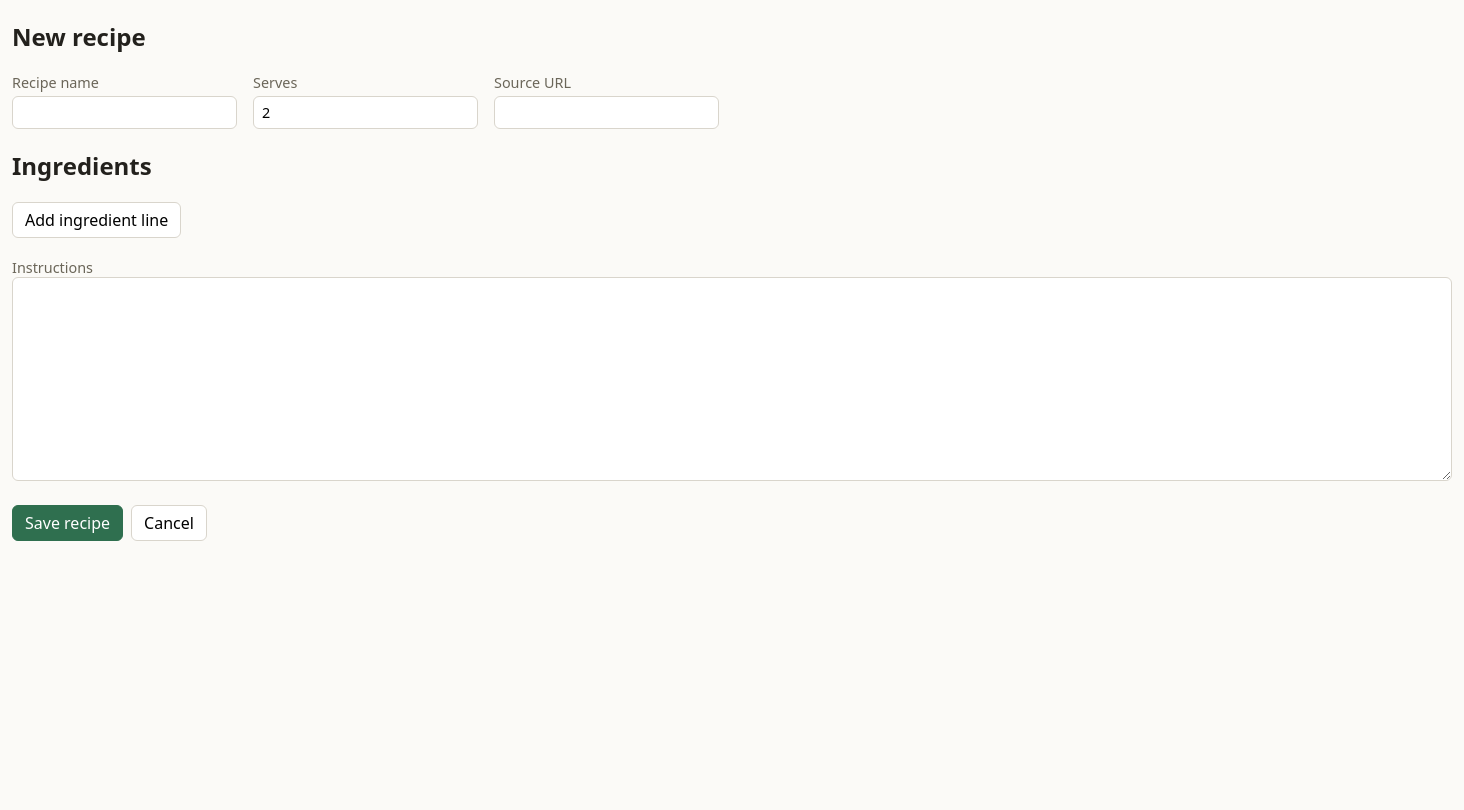
Test: RecipeEditorPage › shows a plain whole-number field for a count ingredient
Click the button "Add ingredient line" at [97, 220], box [12,202,181,238]
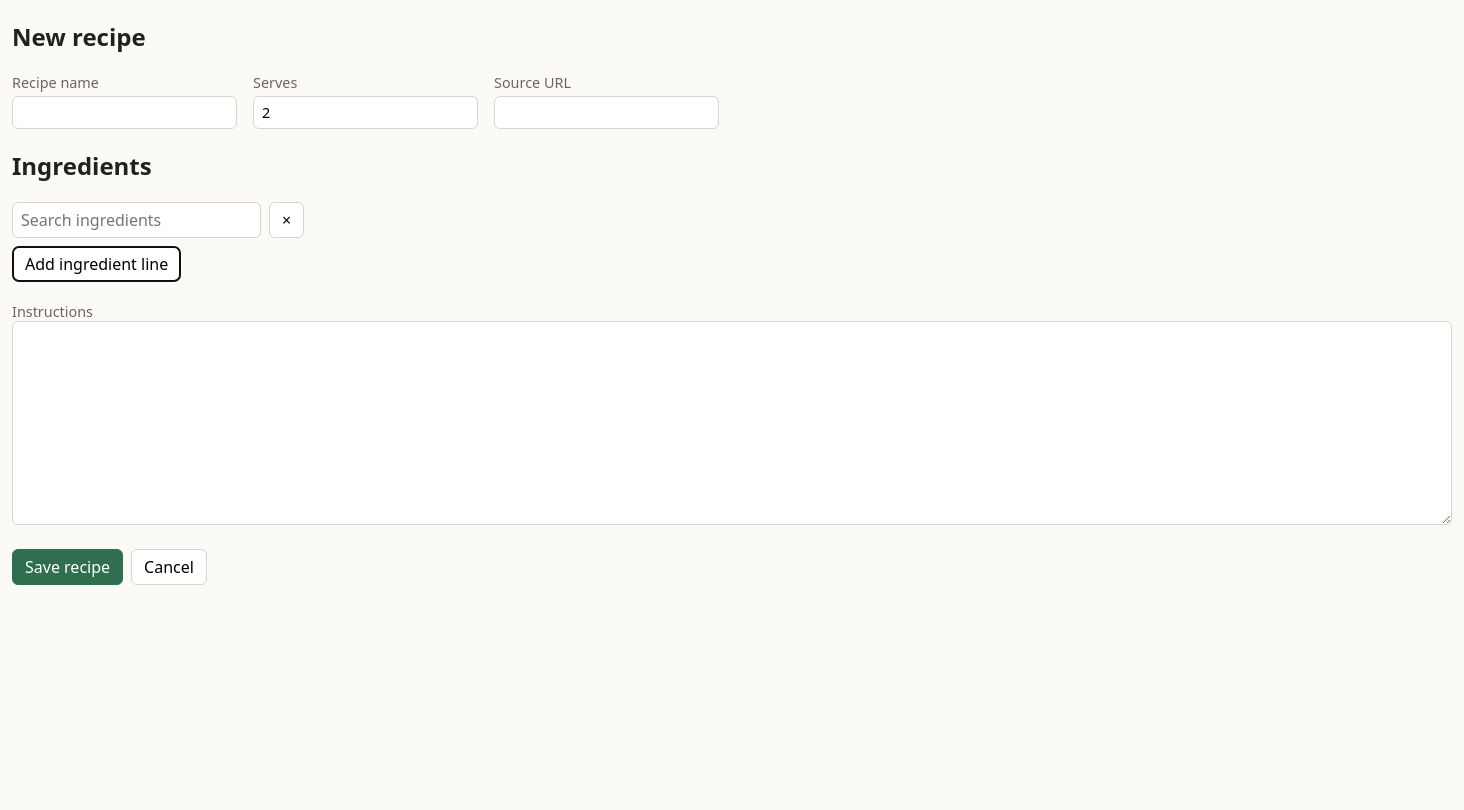
Type "onio" into the field with placeholder "Search ingredients" at [136, 220], box [12,202,261,238]
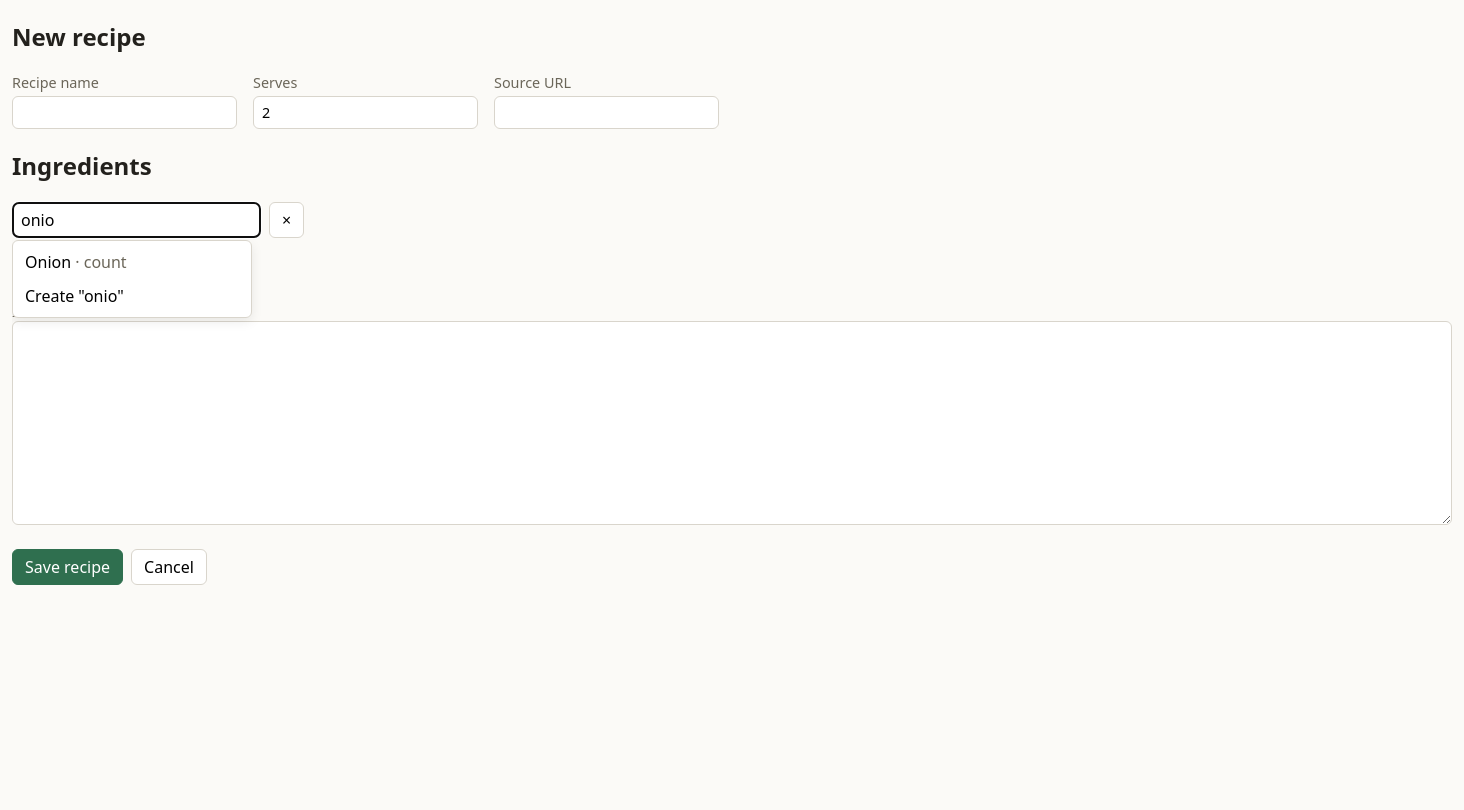
Click the option "Onion · count" at [132, 262], box [17,245,247,279]
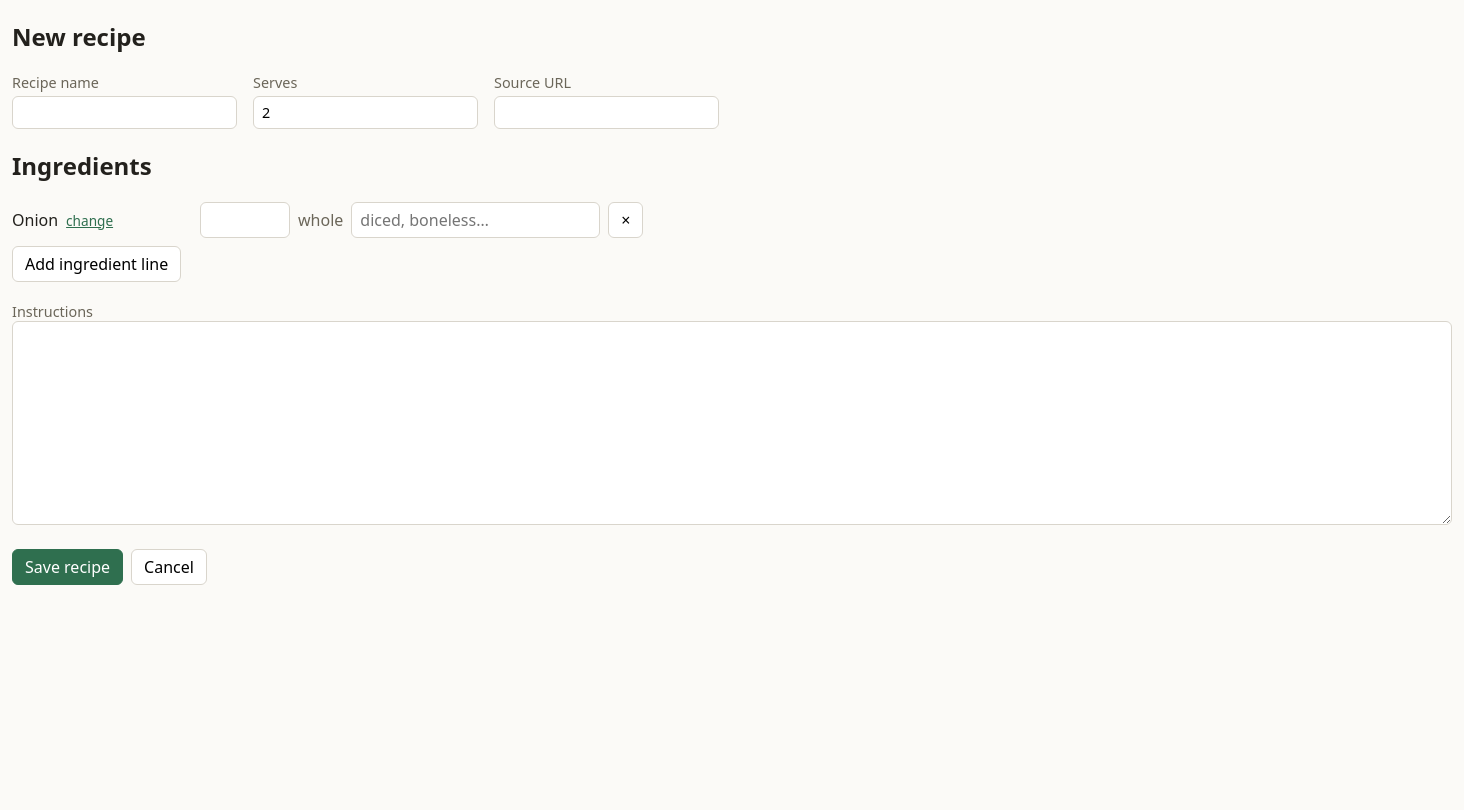
Check: the text "whole" is shown, box [298,209,343,231]
